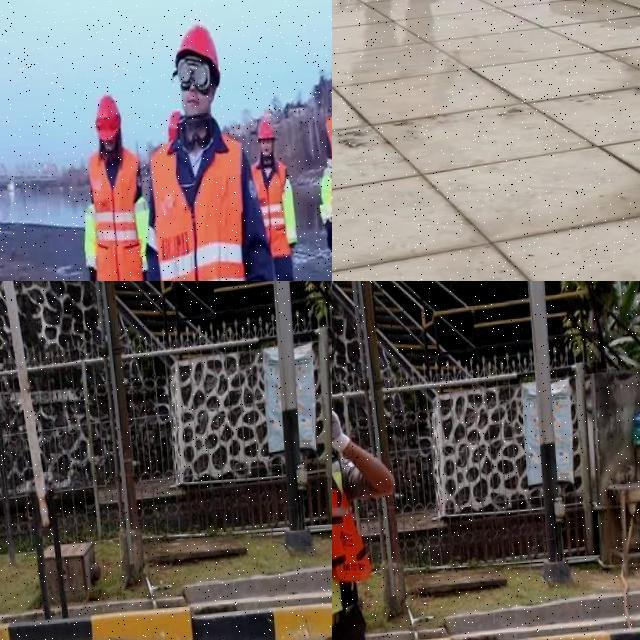helmet: (168, 22, 222, 77), (90, 92, 122, 138), (256, 114, 276, 142), (166, 108, 182, 134)
vest: (144, 128, 254, 281), (85, 143, 146, 281), (332, 451, 379, 626), (249, 158, 294, 260)
